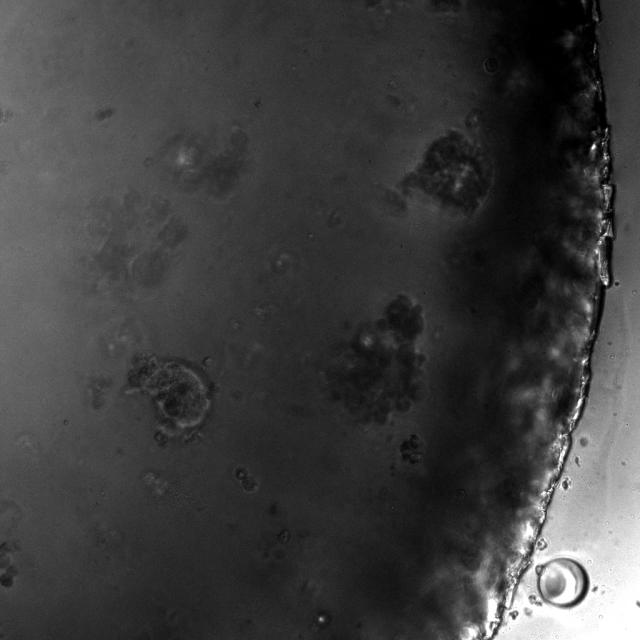organoid: (325, 294, 424, 423), (125, 353, 214, 448), (398, 130, 492, 213), (0, 541, 18, 587), (234, 466, 259, 492), (401, 434, 423, 463)
